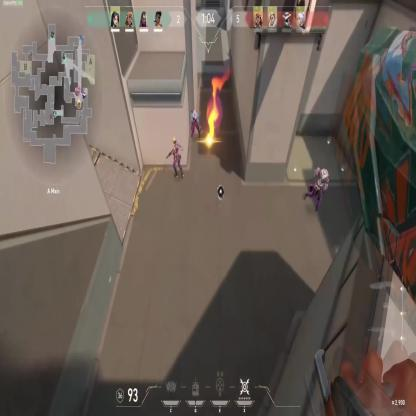enemy: (305, 166, 329, 216), (167, 137, 185, 180), (190, 107, 201, 139)
enemy_head: (321, 169, 328, 180), (172, 136, 176, 145), (193, 110, 196, 117)
